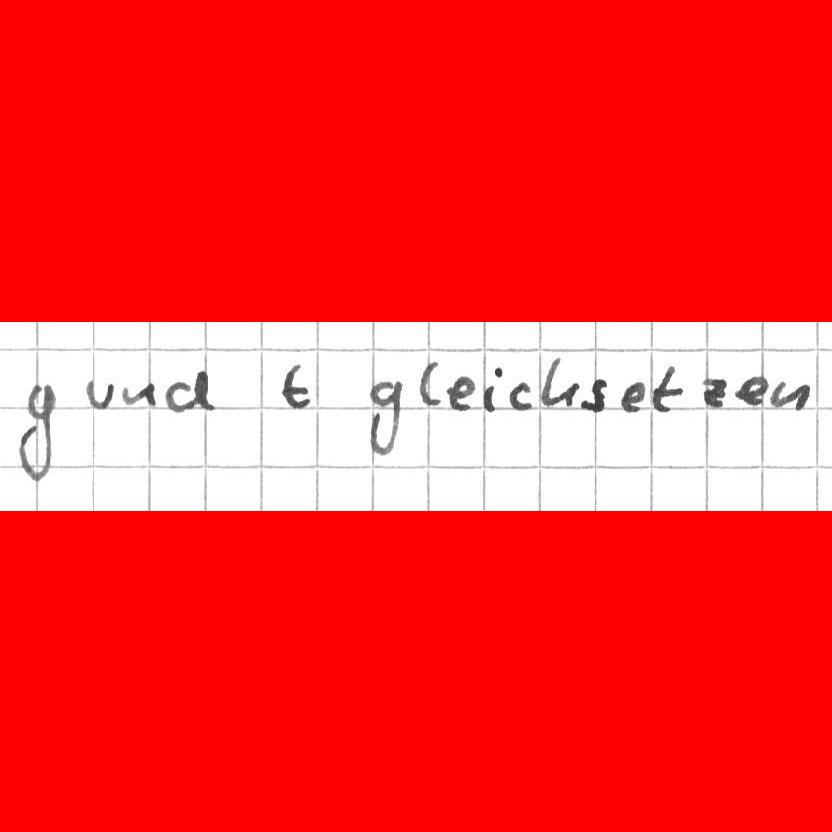Char: (16, 382, 56, 484), (365, 375, 405, 452), (161, 368, 217, 414), (539, 354, 578, 409), (278, 361, 312, 412), (652, 363, 683, 415), (769, 376, 811, 411), (416, 356, 443, 408), (579, 374, 610, 414), (481, 362, 503, 416), (122, 378, 156, 409), (735, 374, 765, 409), (699, 373, 727, 410), (85, 377, 115, 411), (448, 374, 474, 412), (619, 378, 647, 413), (508, 378, 533, 412)
